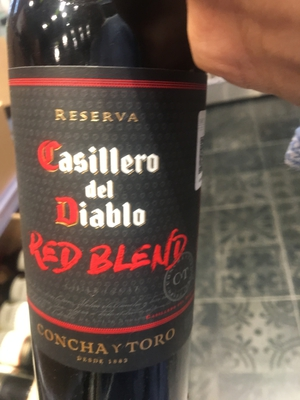casillero del diablo red blend: (4, 19, 212, 400)
